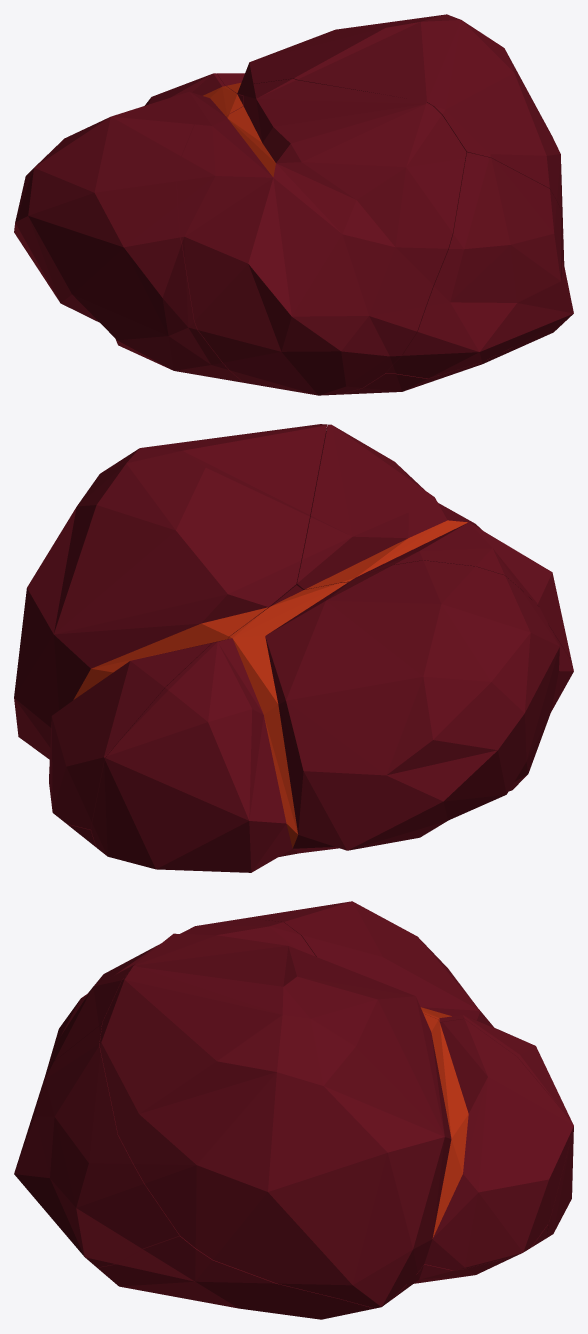
The model's file is GoldenOre3-0Crack.fbx.
3 views of the same model, one above another, from view 1: azimuth 30°, elevation 25°; view 2: azimuth 150°, elevation 25°; view 3: azimuth 270°, elevation 25° (orthographic). The views are drawn at different scales.
Parts seen in each view (by area): view 1: Icosphere_cell.001, Icosphere_cell.004, Icosphere_cell, Icosphere_cell.003, Icosphere_cell.002; view 2: Icosphere_cell.004, Icosphere_cell, Icosphere_cell.001; view 3: Icosphere_cell, Icosphere_cell.003, Icosphere_cell.004, Icosphere_cell.002, Icosphere_cell.001.
Part boxes in pixels (left/top/right/bottom): Icosphere_cell.001: left=176, top=78, right=466, bottom=395; Icosphere_cell.004: left=14, top=73, right=243, bottom=382; Icosphere_cell: left=217, top=14, right=563, bottom=233; Icosphere_cell.003: left=385, top=152, right=573, bottom=378; Icosphere_cell.002: left=340, top=234, right=570, bottom=394; Icosphere_cell.004: left=91, top=560, right=573, bottom=872; Icosphere_cell: left=14, top=424, right=327, bottom=829; Icosphere_cell.001: left=296, top=424, right=571, bottom=661; Icosphere_cell: left=99, top=955, right=573, bottom=1308; Icosphere_cell.003: left=14, top=1023, right=179, bottom=1267; Icosphere_cell.004: left=247, top=901, right=573, bottom=1237; Icosphere_cell.002: left=97, top=1224, right=548, bottom=1319; Icosphere_cell.001: left=32, top=918, right=339, bottom=1117.
Size of the model in its own units: 212 by 123 by 208.
